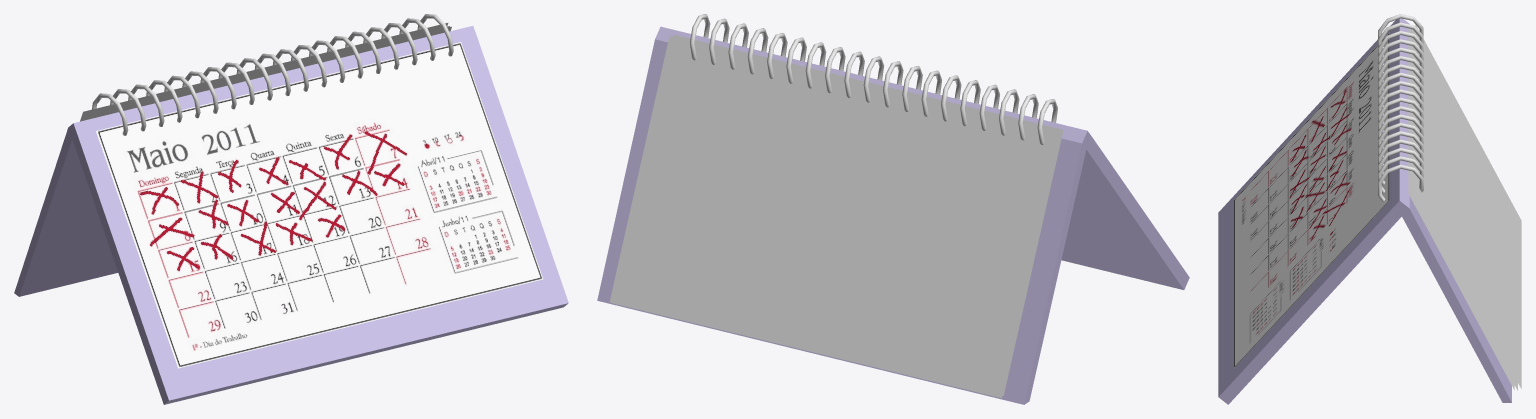
Rendered from Calendar.fbx.
The picture shows the model from 3 angles, left to right: view 1: azimuth 30°, elevation 25°; view 2: azimuth 150°, elevation 25°; view 3: azimuth 270°, elevation 25°; orthographic projection. The views are drawn at different scales.
Visible parts, largest first — view 1: Maio 1, Cube, Spiral, Past Months, Maio.003, Maio.002; view 2: Maio.003, Cube, Spiral, Past Months, Maio.002; view 3: Maio 1, Maio.003, Cube, Spiral, Maio.002, Past Months.
Boxes of the visible parts, left/top/right/bottom form: Maio 1: left=96, top=42, right=542, bottom=368; Cube: left=14, top=26, right=568, bottom=404; Spiral: left=92, top=14, right=453, bottom=135; Past Months: left=85, top=26, right=451, bottom=120; Maio.003: left=80, top=23, right=448, bottom=121; Maio.002: left=83, top=26, right=449, bottom=120; Maio.003: left=609, top=36, right=1059, bottom=397; Cube: left=597, top=26, right=1189, bottom=404; Spiral: left=689, top=14, right=1057, bottom=144; Past Months: left=673, top=34, right=1063, bottom=395; Maio.002: left=612, top=131, right=1061, bottom=397; Maio 1: left=1234, top=32, right=1389, bottom=367; Maio.003: left=1415, top=24, right=1521, bottom=388; Cube: left=1218, top=18, right=1511, bottom=404; Spiral: left=1378, top=14, right=1423, bottom=201; Maio.002: left=1411, top=29, right=1517, bottom=390; Past Months: left=1408, top=28, right=1514, bottom=389.
Bounding box in the file's own units: 200 × 113 × 139.
